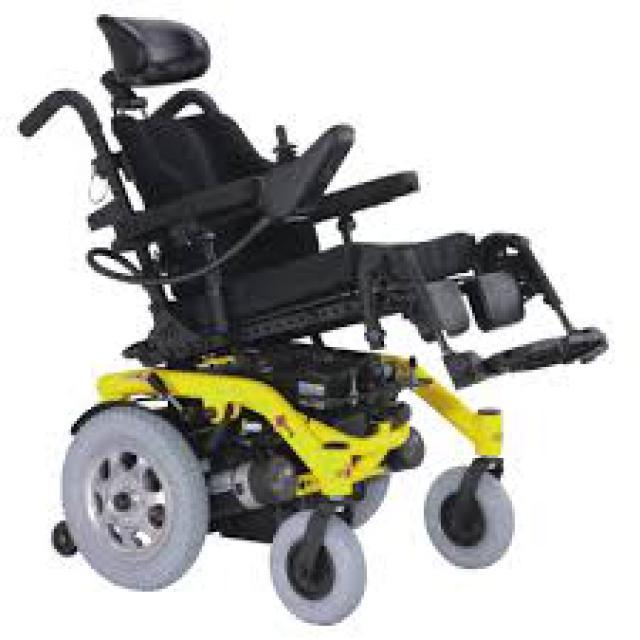wheelchair: (8, 6, 614, 612)
